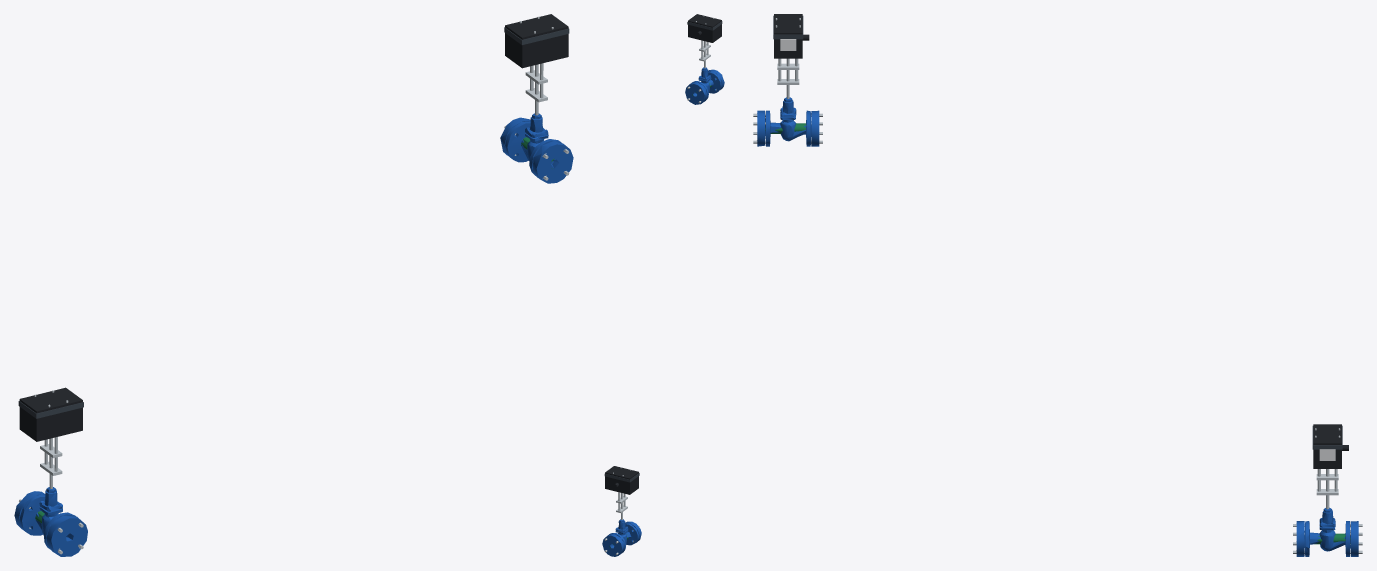
File: modulation.glb
3 renders of one model, left to right at view 1: azimuth 30°, elevation 25°; view 2: azimuth 150°, elevation 25°; view 3: azimuth 270°, elevation 25°, orthographic. The views are drawn at different scales.
Parts seen in each view (by area): view 1: mod_direct_drive, mod_eco_drive, mod_eco, mod_direct; view 2: mod_direct_drive, mod_eco_drive, mod_eco, mod_direct; view 3: mod_eco_drive, mod_direct_drive, mod_eco, mod_direct.
Part boxes in pixels (x1,y1,x2,y2): mod_direct_drive: (504, 14, 569, 115); mod_eco_drive: (18, 387, 83, 488); mod_eco: (14, 487, 87, 556); mod_direct: (500, 113, 573, 183); mod_direct_drive: (687, 14, 722, 68); mod_eco_drive: (604, 466, 639, 519); mod_eco: (602, 519, 641, 556); mod_direct: (685, 67, 724, 104); mod_eco_drive: (1312, 424, 1348, 509); mod_direct_drive: (773, 14, 809, 98); mod_eco: (1293, 507, 1362, 556); mod_direct: (753, 97, 822, 146).
Bounding box in the file's own units: 0.806 × 2.57 × 2.36.
